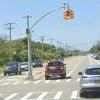crosswalks: (0, 79, 80, 85)
